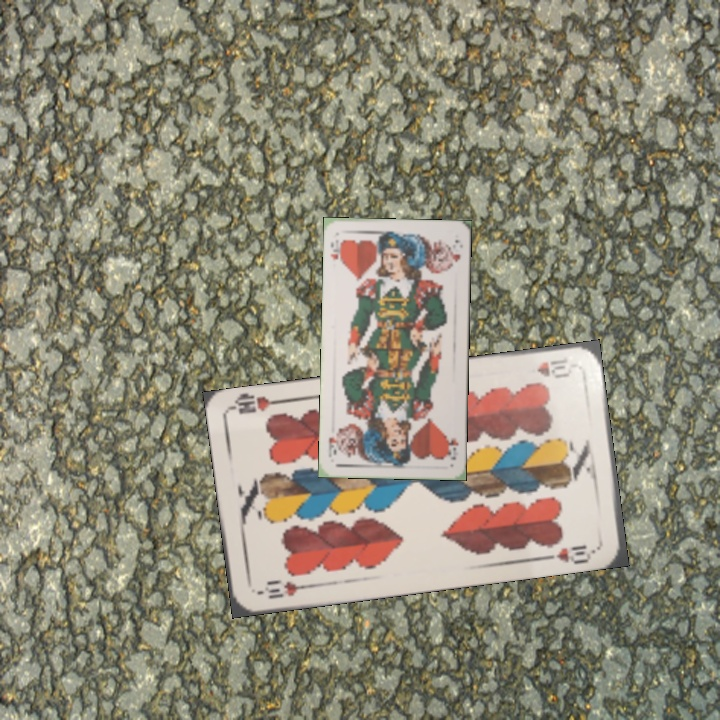H10: (254, 576, 313, 602), (533, 354, 576, 380)
HO: (326, 235, 346, 266), (442, 431, 461, 462)
